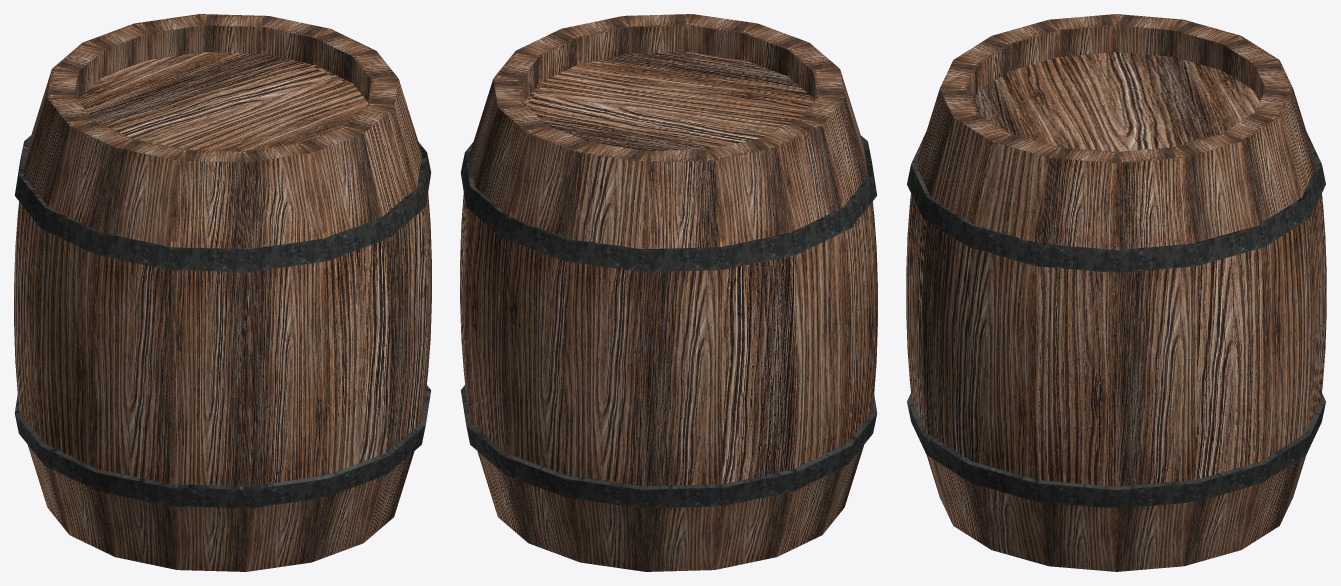
File: multiplebarrel.fbx
3 renders of one model, left to right at view 1: azimuth 30°, elevation 25°; view 2: azimuth 150°, elevation 25°; view 3: azimuth 270°, elevation 25°, orthographic.
Parts seen in each view (by area): view 1: Cylinder.003; view 2: Cylinder.003; view 3: Cylinder.003.
Part boxes in pixels (x1,y1,x2,y2): Cylinder.003: (14, 14, 431, 571); Cylinder.003: (460, 14, 877, 571); Cylinder.003: (906, 14, 1326, 571).
Bounding box in the file's own units: 238 × 255 × 238.
